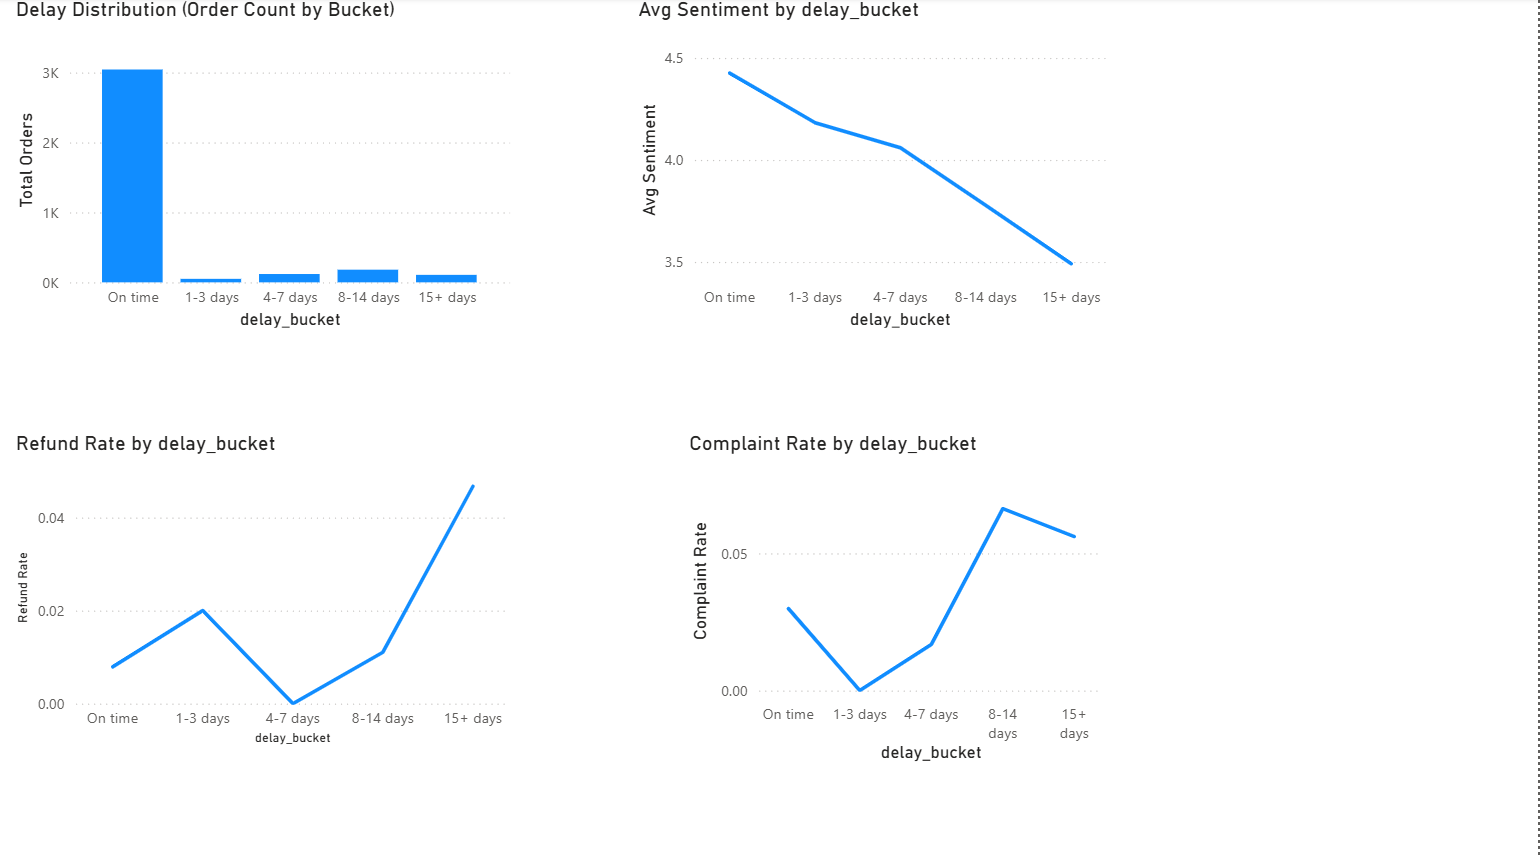

The page's visual inventory and layout, read from the dashboard file:
{"tool":"powerbi","page":{"name":"Delay_Experience","canvas":[1280,720],"ordinal":1},"visuals":[{"type":"clusteredColumnChart","title":"Delay Distribution (Order Count by Bucket)","fields":{"Y":["orders.Total Orders"],"Category":["DelayBucket.delay_bucket"]},"box":[10.3,0,420.1,279.6],"z":0},{"type":"lineChart","fields":{"Y":["orders.Avg Sentiment"],"Category":["DelayBucket.delay_bucket"]},"box":[527,0,399.5,279.6],"z":1000},{"type":"lineChart","fields":{"Y":["orders.Refund Rate"],"Category":["DelayBucket.delay_bucket"]},"box":[10.3,359.5,420.1,265.5],"z":2000},{"type":"lineChart","fields":{"Y":["orders.Complaint Rate"],"Category":["DelayBucket.delay_bucket"]},"box":[569.6,359.5,356.9,279.6],"z":3000}]}

Visuals, with their boxes in screenshot pixels (x1, y1, x2, y2), scaled from the page's 1280x720 canvas onto the 1540x855 screenshot:
"Delay Distribution (Order Count by Bucket)" clusteredColumnChart: bbox=(12, 0, 518, 332)
lineChart - orders.Avg Sentiment x DelayBucket.delay_bucket: bbox=(634, 0, 1115, 332)
lineChart - orders.Refund Rate x DelayBucket.delay_bucket: bbox=(12, 427, 518, 742)
lineChart - orders.Complaint Rate x DelayBucket.delay_bucket: bbox=(685, 427, 1115, 759)
